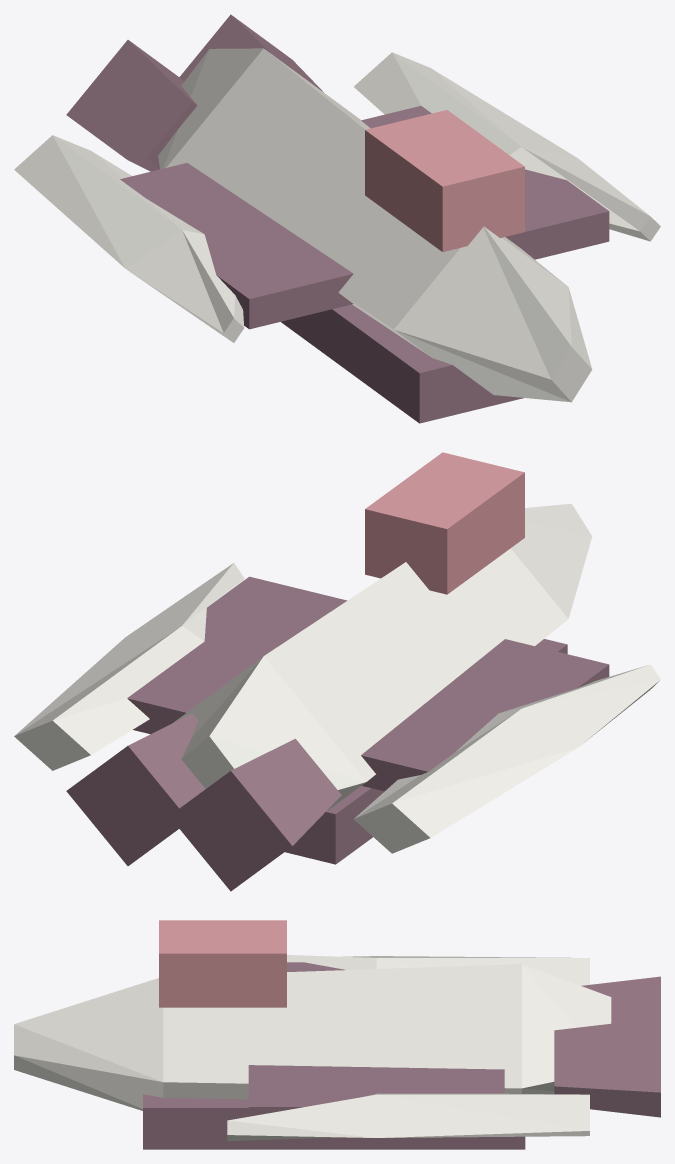
The picture shows the model from 3 angles, top to bottom: view 1: azimuth 30°, elevation 25°; view 2: azimuth 150°, elevation 25°; view 3: azimuth 270°, elevation 25°; orthographic projection. The views are drawn at different scales.
Size of the model in its own units: 3.84 by 1.9 by 5.76.
